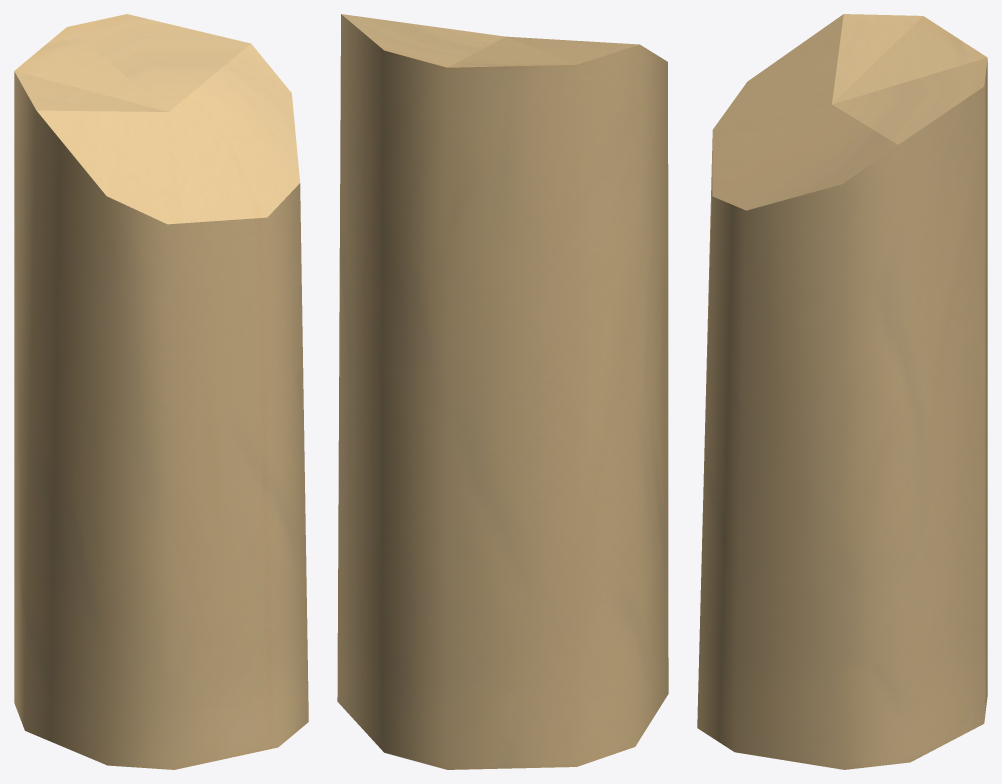
Rendered from ColumnG.FBX.
3 views of the same model, side by side, from view 1: azimuth 30°, elevation 25°; view 2: azimuth 150°, elevation 25°; view 3: azimuth 270°, elevation 25° (orthographic). The views are drawn at different scales.
Parts seen in each view (by area): view 1: ColumnG; view 2: ColumnG; view 3: ColumnG.
Part boxes in pixels (left/top/right/bottom): ColumnG: left=14, top=14, right=308, bottom=769; ColumnG: left=337, top=14, right=668, bottom=769; ColumnG: left=697, top=14, right=987, bottom=769.
Size of the model in its own units: 8.28 by 7.99 by 19.34.
Materials: 1 (1 with a texture image).
